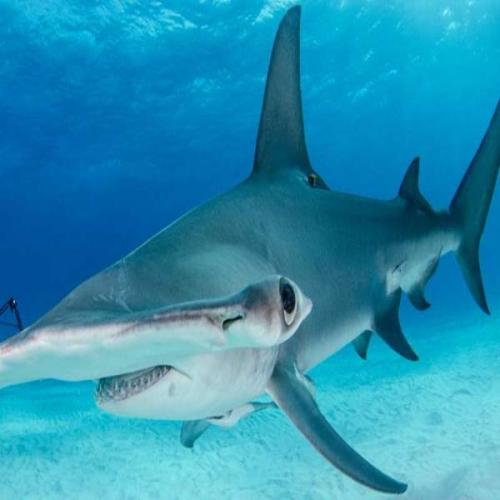shark-endangered: (5, 14, 491, 489)
